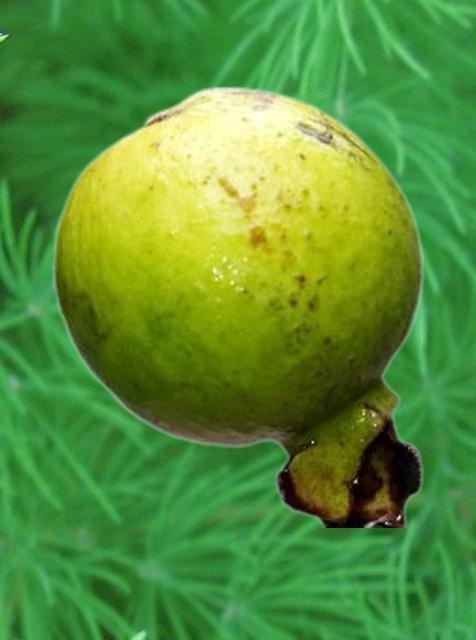guava: (51, 85, 425, 526)
